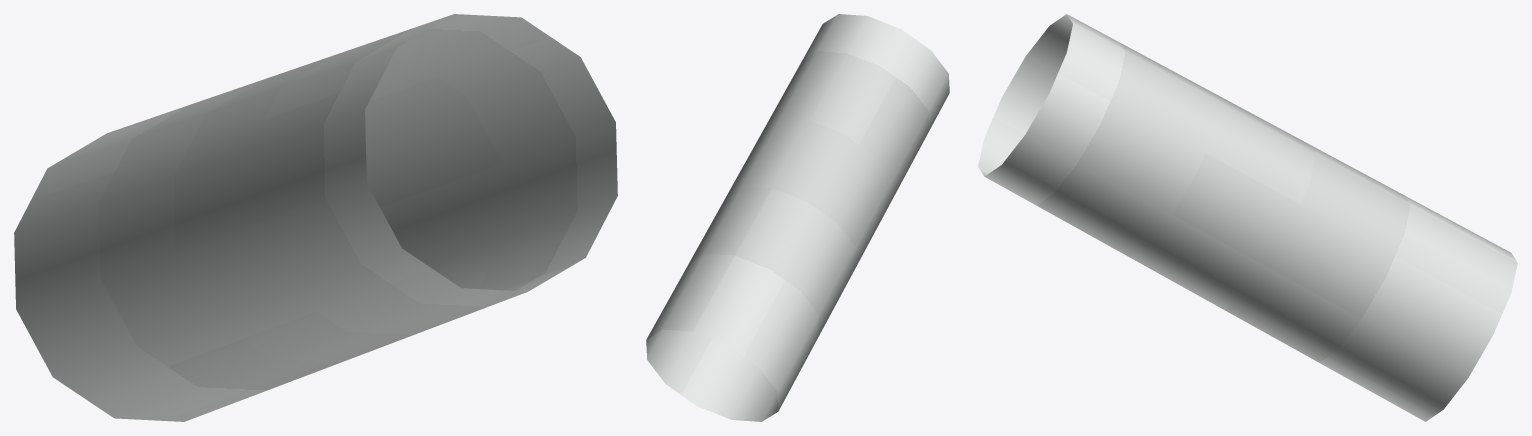
File: luminairearm_caltrans8ftstraightdouble_c6.obj
3 views of the same model, side by side, from view 1: azimuth 30°, elevation 25°; view 2: azimuth 150°, elevation 25°; view 3: azimuth 270°, elevation 25° (orthographic). The views are drawn at different scales.
Visible parts, largest first — view 1: luminairearm_caltrans8ftstraightdouble_c6; view 2: luminairearm_caltrans8ftstraightdouble_c6; view 3: luminairearm_caltrans8ftstraightdouble_c6.
Boxes of the visible parts, box(x1,y1,x2,y2) form: luminairearm_caltrans8ftstraightdouble_c6: box(14, 14, 617, 421); luminairearm_caltrans8ftstraightdouble_c6: box(646, 14, 949, 421); luminairearm_caltrans8ftstraightdouble_c6: box(978, 14, 1517, 421).
Size of the model in its own units: 0.2167 by 0.4841 by 0.6107.
